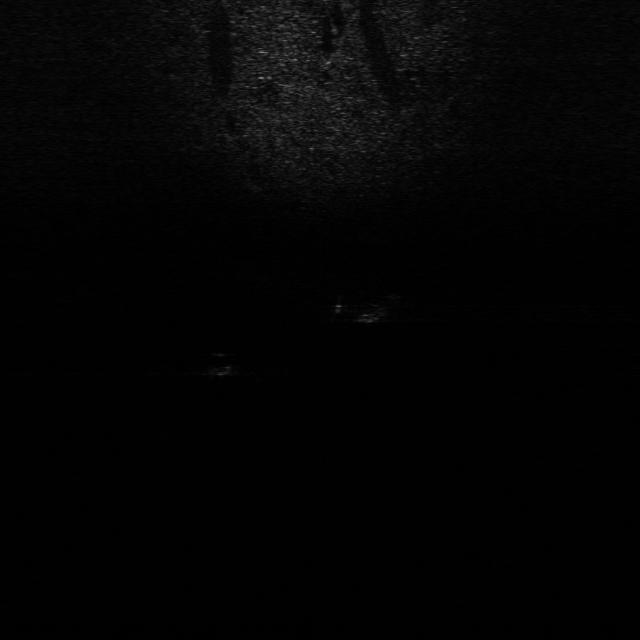ball: (197, 348, 238, 380)
human body: (331, 290, 413, 328)
